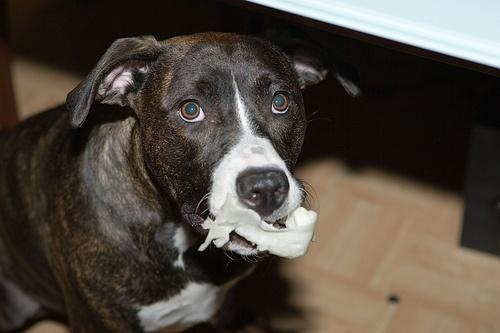dog: (1, 32, 327, 333)
